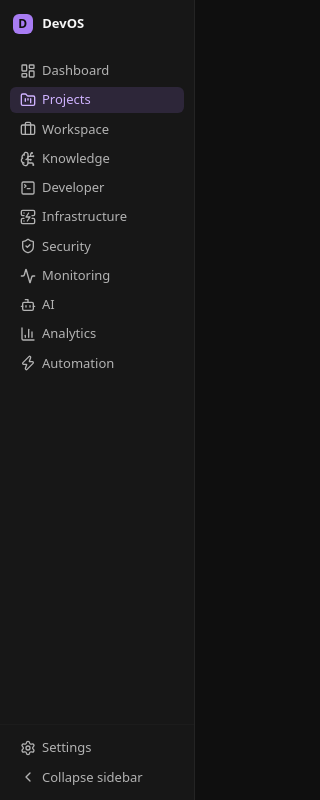
Test case: keyboard and focus behaviour › collapsing the sidebar keeps every link nameable and reports its state
The width and height of the screenshot is (320, 800).
Click the button "Collapse sidebar" at {"x": 97, "y": 777}, box [10,764,184,790]
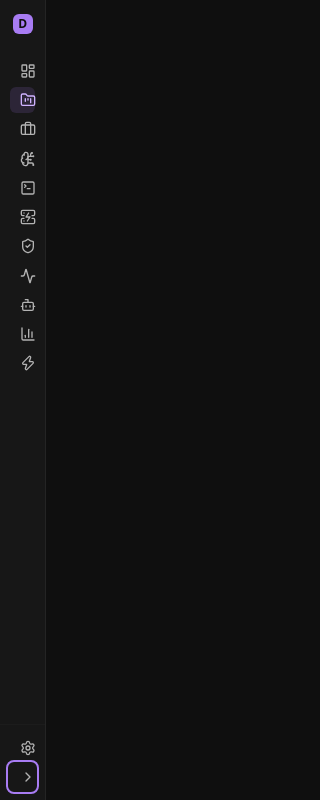
Expected: the link named "Projects" is shown, [10,87,35,113]
Now the button named "Expand sidebar" is collapsed, box [10,764,35,790]
